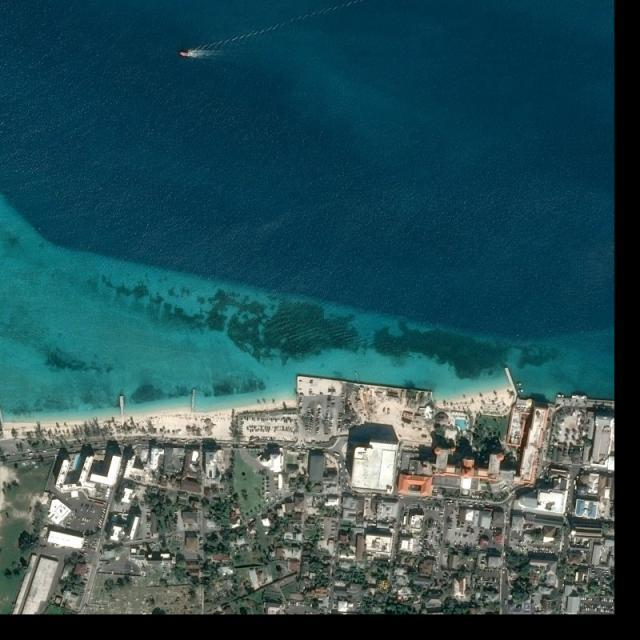ship: (571, 394, 588, 401), (179, 52, 190, 57), (557, 394, 565, 398), (516, 383, 523, 387), (518, 390, 525, 394)
